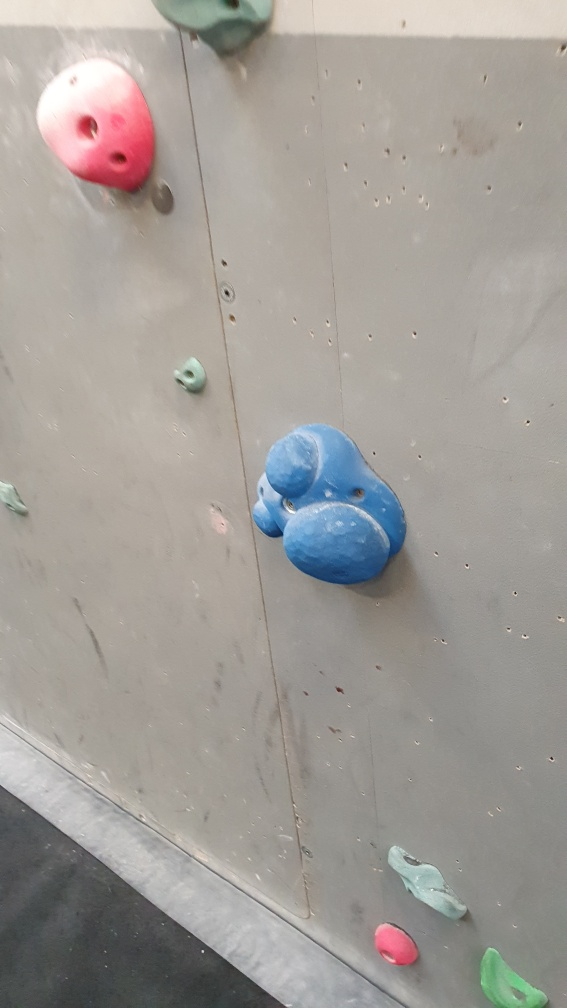Sloper: (252, 424, 412, 590)
